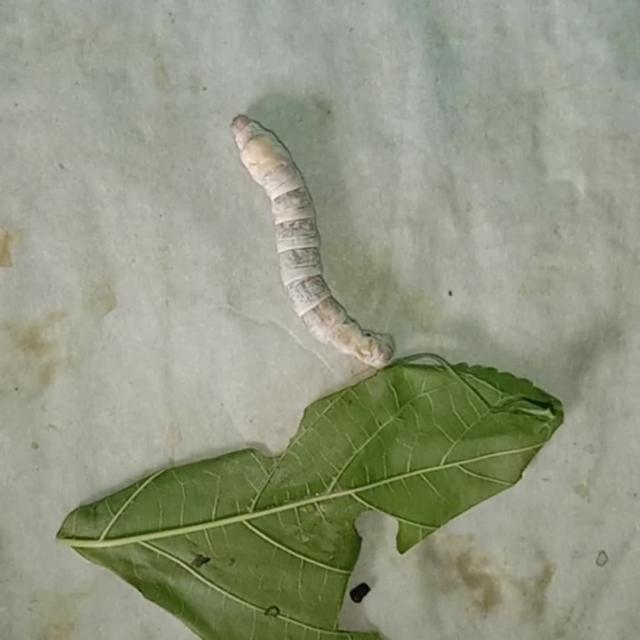Grasserie: (208, 74, 410, 399)
